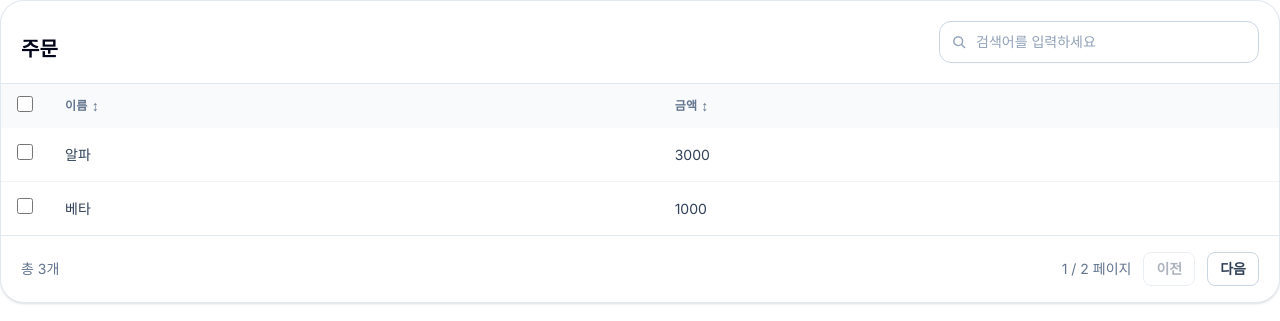
Test case: data table block › filters, sorts, selects and paginates rows
Click the button "금액 ↕": (692, 106) [675,96,709,116]
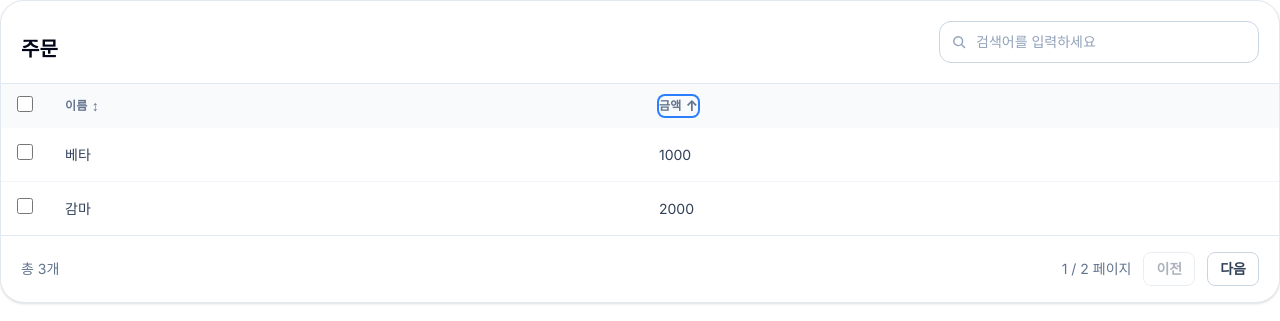
Expected: the row "베타 1000" is shown, [1,128,1279,182]
Click the checkbox named "현재 페이지의 모든 행 선택": (25, 104) [17,96,33,112]
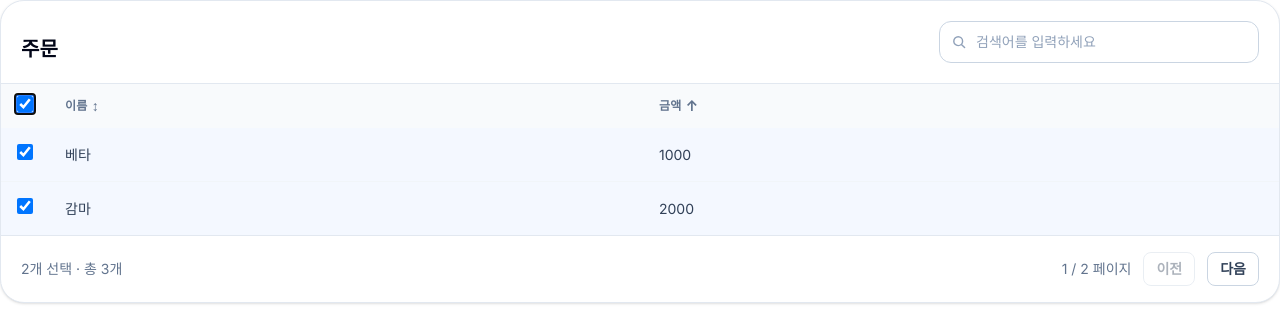
Expected: the text "2개 선택 · 총 3개" is shown, [21,259,122,279]
Click the button "다음": (1233, 269) [1207,252,1259,286]
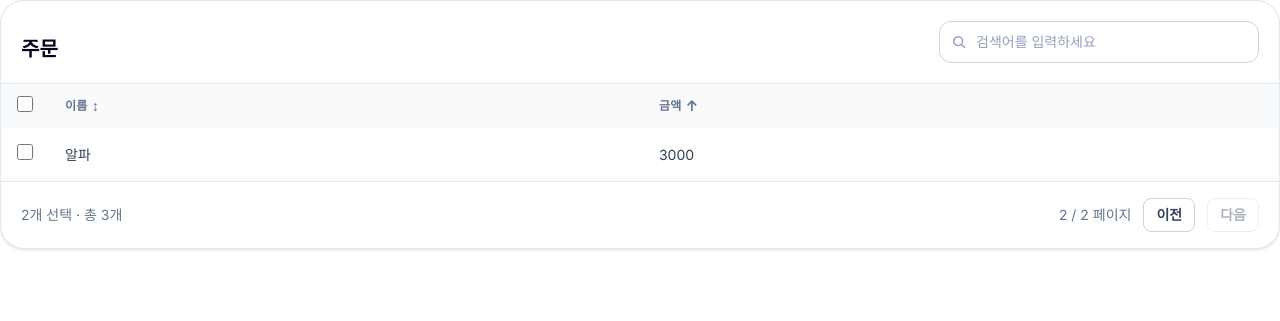
Expected: the text "2 / 2 페이지" is shown, [1059,205,1132,225]
In the search field named "테이블 검색": (1099, 42) [939,21,1259,63], type "감마"
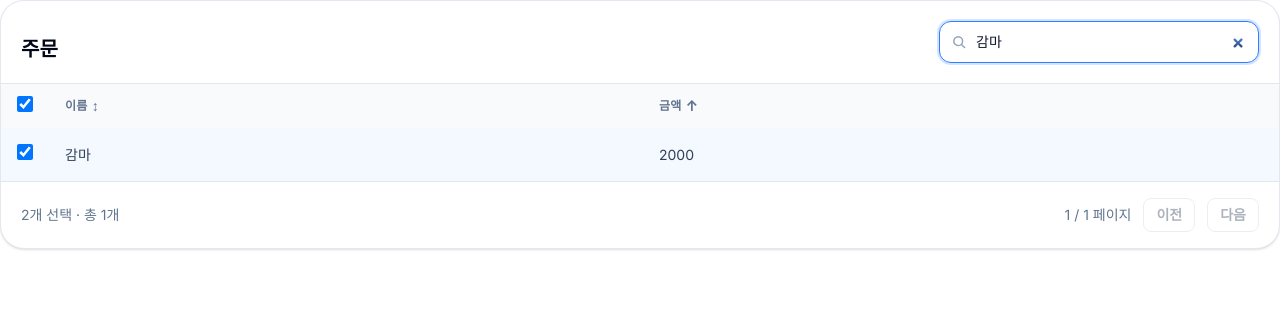
Expected: the text "감마" is shown, [49,128,643,181]
Expected: the text "알파" is gone
Expected: the text "1 / 1 페이지" is shown, [1065,205,1132,225]
